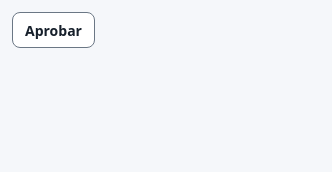
Test: BotonAccion › si el servidor lo rechaza, muestra su mensaje tal cual y no recarga
Click the button with test id "b".
click(54, 30)  # box [12,12,95,48]
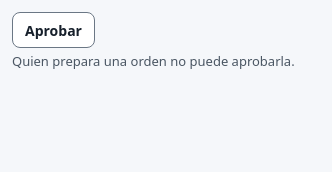
expect the message with test id "b-error" reads "Quien prepara una orden no puede aprobarla.": met, box [12,52,295,70]
